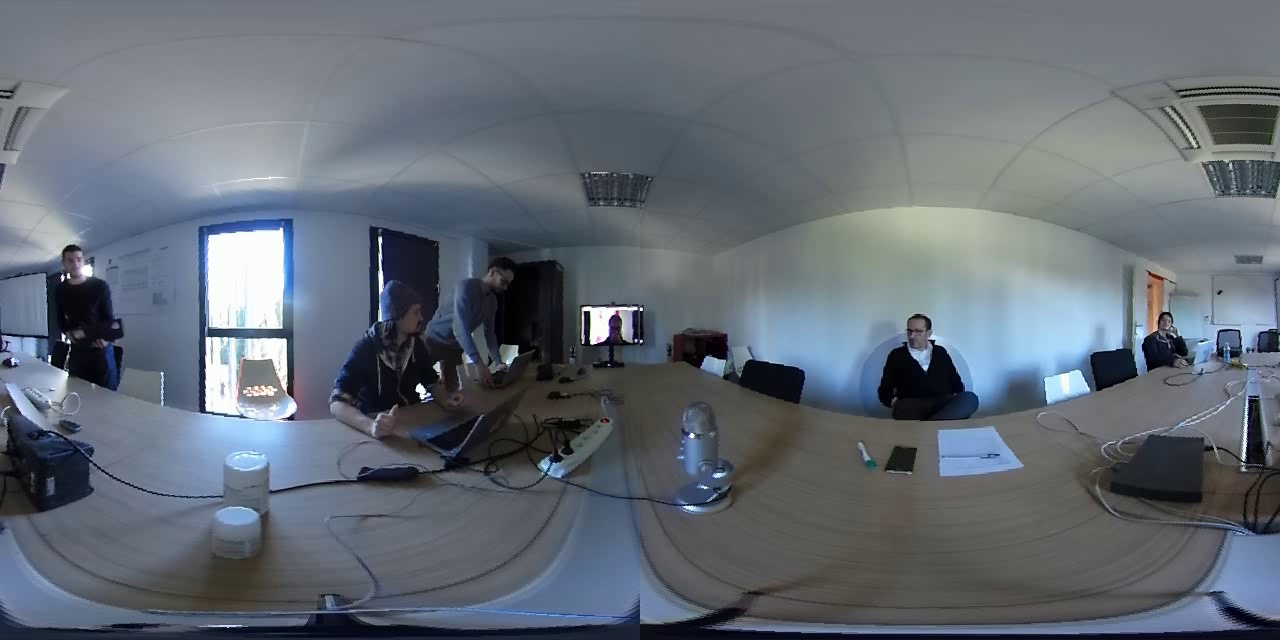person: (335, 267, 443, 428), (41, 235, 131, 382), (867, 303, 973, 415), (450, 240, 523, 391), (1140, 301, 1188, 376), (579, 307, 643, 340)
